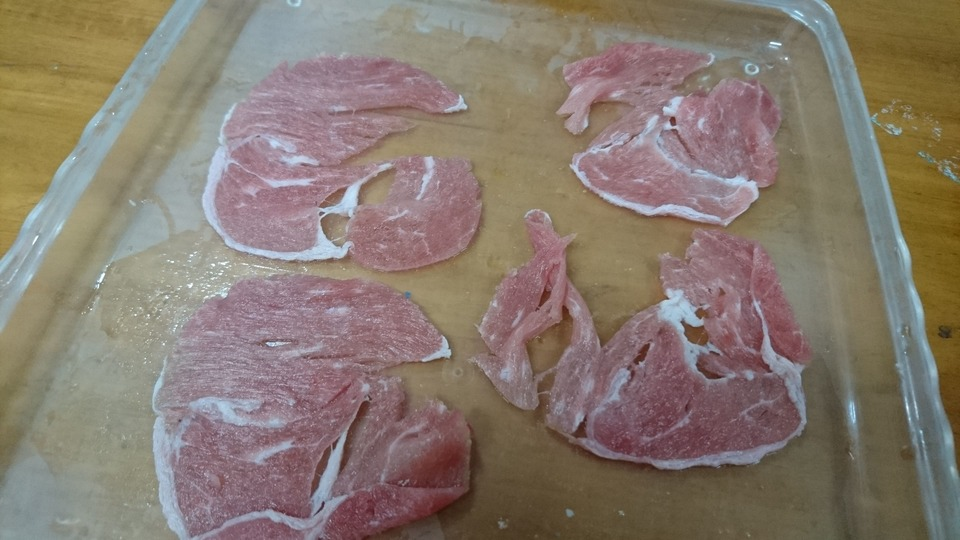restructured meat: (145, 267, 482, 529), (486, 220, 814, 476), (211, 50, 480, 268), (553, 32, 784, 229)
